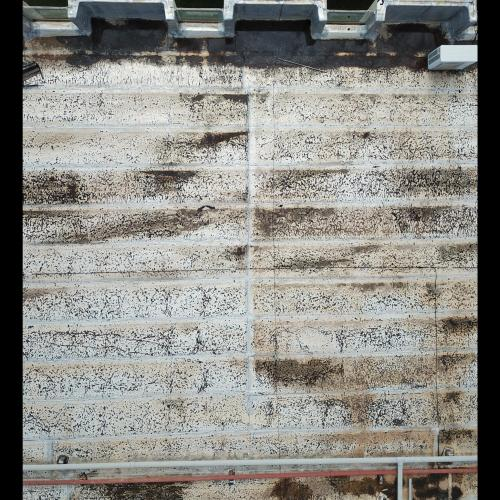conde: (426, 43, 478, 73)
